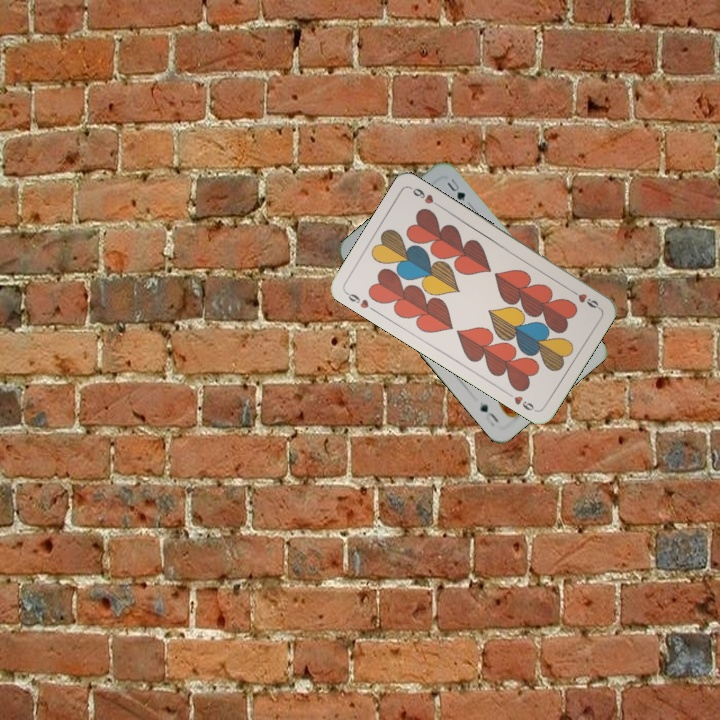H9: (342, 288, 378, 315), (566, 285, 602, 311)
